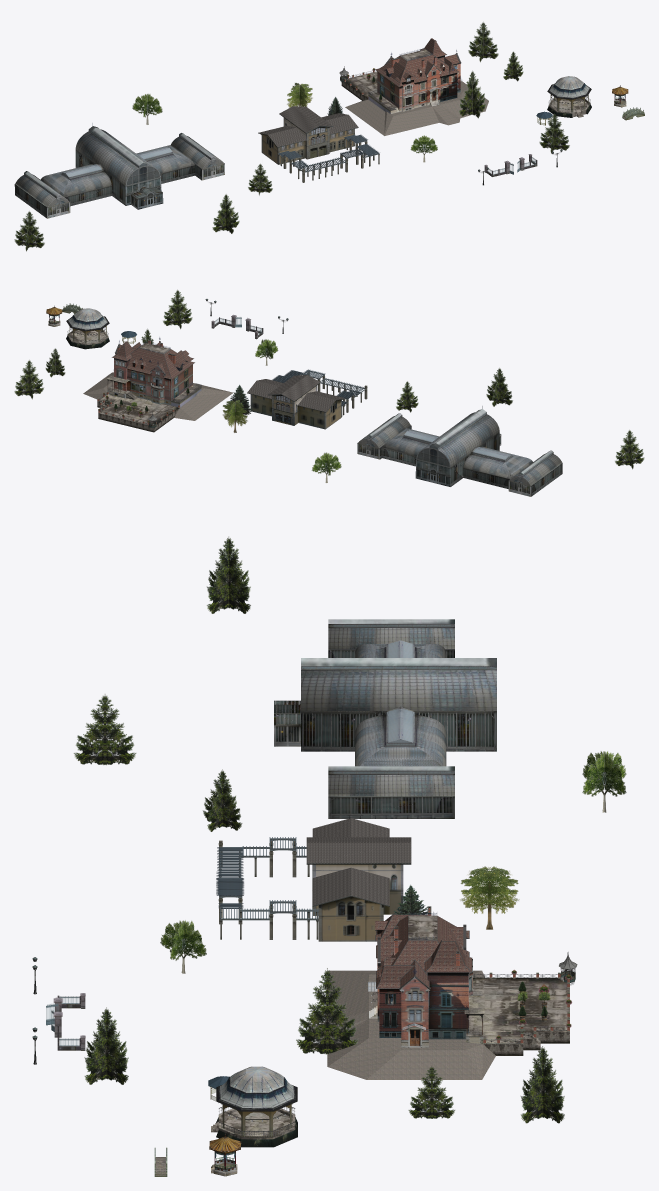
The model's file is european_buildings_asset_pack_3.glb.
The picture shows the model from 3 angles, top to bottom: view 1: azimuth 30°, elevation 25°; view 2: azimuth 150°, elevation 25°; view 3: azimuth 270°, elevation 25°; orthographic projection. The views are drawn at different scales.
Visible parts, largest first — view 1: Sketchup_0, kaszijkant_234, G-__555645_65, kaszijkant.001_1037, Component2#2_81, G-__555618_1, Component1.004_335, Component1.018_857, Component1.025_944, Component1.013_831; view 2: Sketchup_0, kaszijkant_234, G-__555645_65, kaszijkant.001_1037, Component2#2_81, G-__555618_1, Component1.015_833, Component1.027_946, Component1.017_856; view 3: Sketchup_0, kaszijkant.001_1037, G-__555645_65, kaszijkant_234, Component2#2_81, G-__555618_1, Component1.006_337, Component1.007_338, Component1.011_342, Component1.010_341, Component3.003_953, Component3.002_952 (+6 smaller).
Part boxes in pixels (box(x1,y1,x2,y2)): Sketchup_0: box(75, 38, 488, 209); kaszijkant_234: box(14, 164, 111, 218); G-__555645_65: box(258, 113, 358, 164); kaszijkant.001_1037: box(136, 133, 224, 183); Component2#2_81: box(279, 106, 333, 133); G-__555618_1: box(548, 98, 590, 117); Component1.004_335: box(458, 71, 472, 116); Component1.018_857: box(554, 114, 569, 150); Component1.025_944: box(29, 212, 44, 248); Component1.013_831: box(483, 22, 498, 58); Sketchup_0: box(83, 341, 501, 486); kaszijkant_234: box(463, 446, 562, 496); G-__555645_65: box(247, 379, 345, 429); kaszijkant.001_1037: box(357, 413, 439, 466); Component2#2_81: box(268, 375, 320, 401); G-__555618_1: box(67, 329, 108, 345); Component1.015_833: box(14, 360, 29, 396); Component1.027_946: box(615, 431, 629, 465); Component1.017_856: box(163, 290, 177, 325); Sketchup_0: box(274, 658, 577, 1079); kaszijkant.001_1037: box(328, 706, 454, 818); G-__555645_65: box(312, 818, 403, 941); kaszijkant_234: box(328, 619, 454, 657); Component2#2_81: box(306, 837, 411, 864); G-__555618_1: box(211, 1108, 295, 1139); Component1.006_337: box(296, 968, 327, 1054); Component1.007_338: box(327, 968, 358, 1054); Component1.011_342: box(105, 694, 136, 765); Component1.010_341: box(73, 695, 104, 764); Component3.003_953: box(489, 866, 519, 929); Component3.002_952: box(460, 866, 489, 929).
Size of the model in its own units: 201 by 17.39 by 86.97.
Materials: 92 (89 with a texture image).
